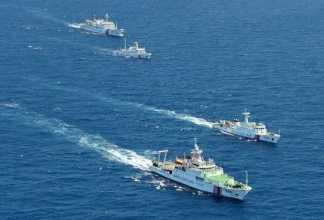warship: (139, 132, 252, 203), (204, 109, 282, 143), (77, 12, 125, 37), (116, 38, 152, 59)
